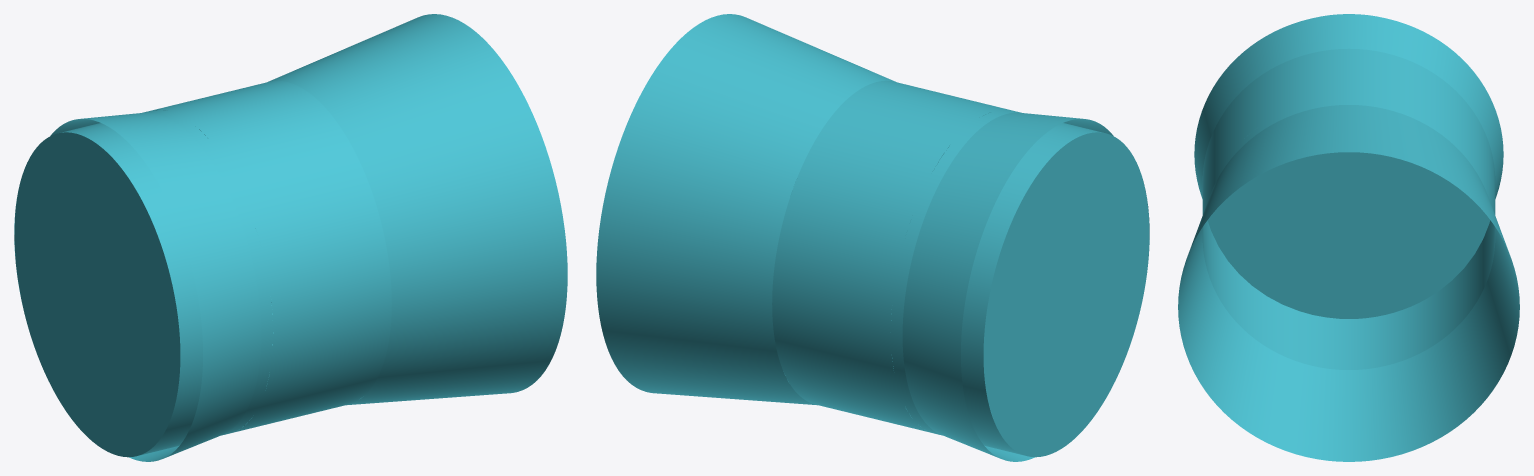
The picture shows the model from 3 angles, left to right: view 1: azimuth 30°, elevation 25°; view 2: azimuth 150°, elevation 25°; view 3: azimuth 270°, elevation 25°; orthographic projection. The views are drawn at different scales.
Visible parts, largest first — view 1: Renderer Node; view 2: Renderer Node; view 3: Renderer Node.
Part boxes in pixels (x1=…): Renderer Node: x1=14, y1=14, x2=567, y2=461; Renderer Node: x1=596, y1=14, x2=1149, y2=461; Renderer Node: x1=1178, y1=14, x2=1519, y2=461.
Bounding box in the file's own units: 0.6176 × 0.5562 × 0.5562.
1 material, 1 textured.
